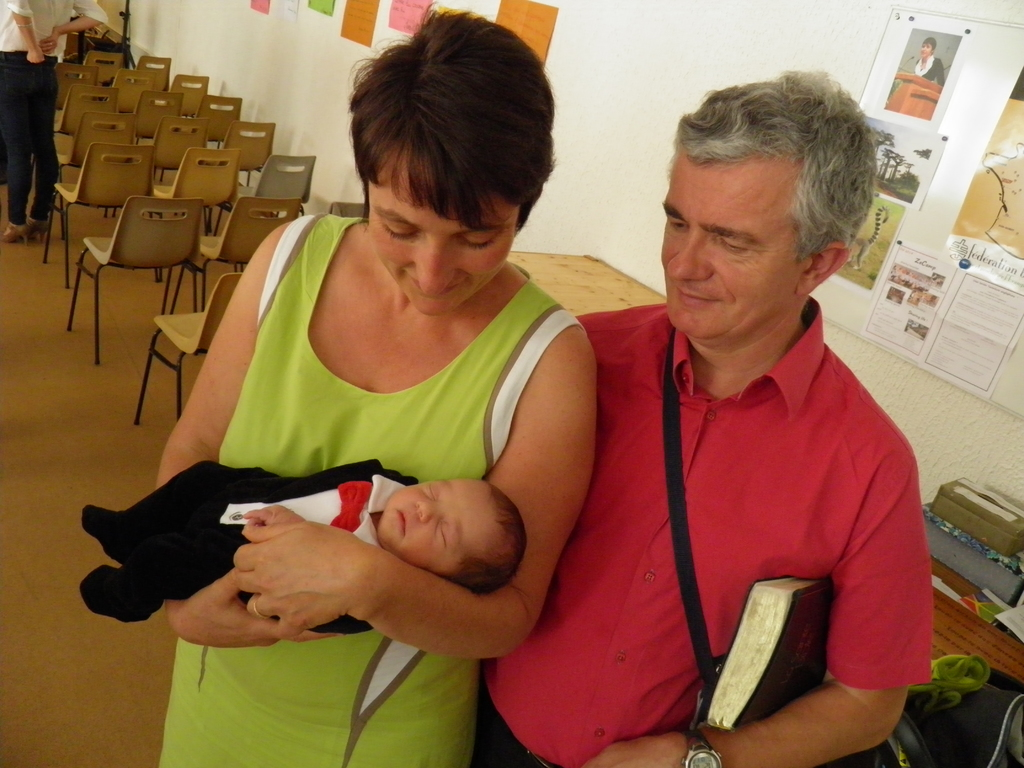Human_hand: (232, 520, 374, 640), (164, 566, 346, 644), (580, 736, 688, 767), (243, 502, 303, 524), (24, 42, 47, 65), (37, 33, 58, 57)
